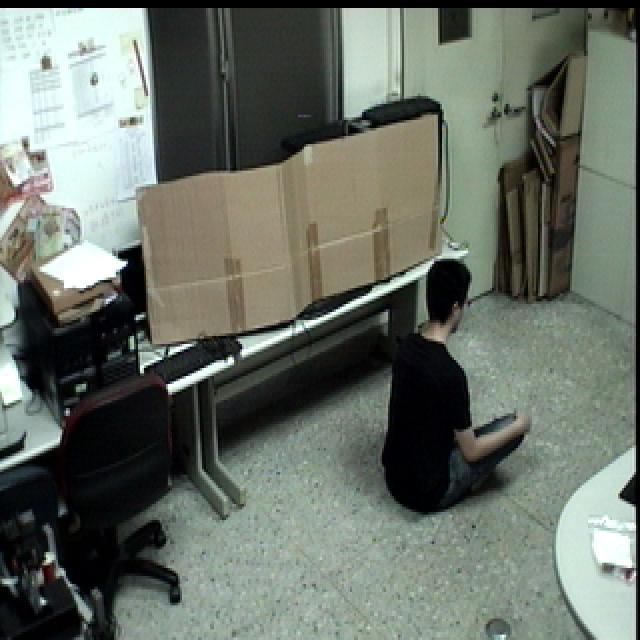sit: (379, 252, 535, 522)
